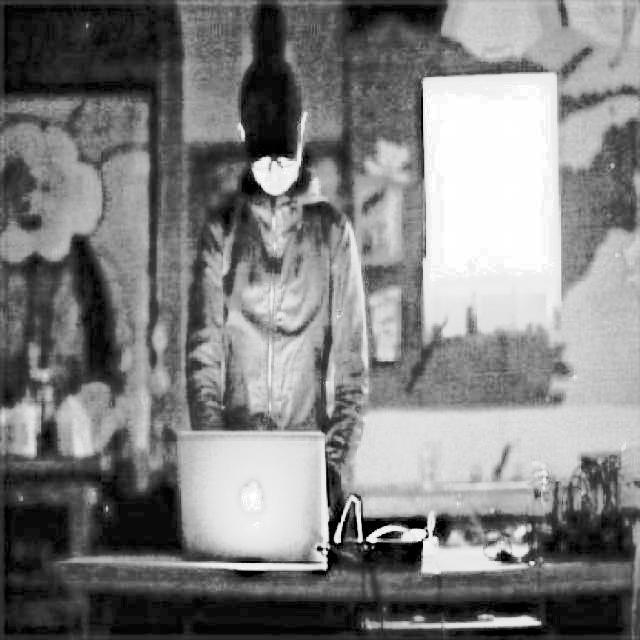Person: (183, 60, 371, 503)
